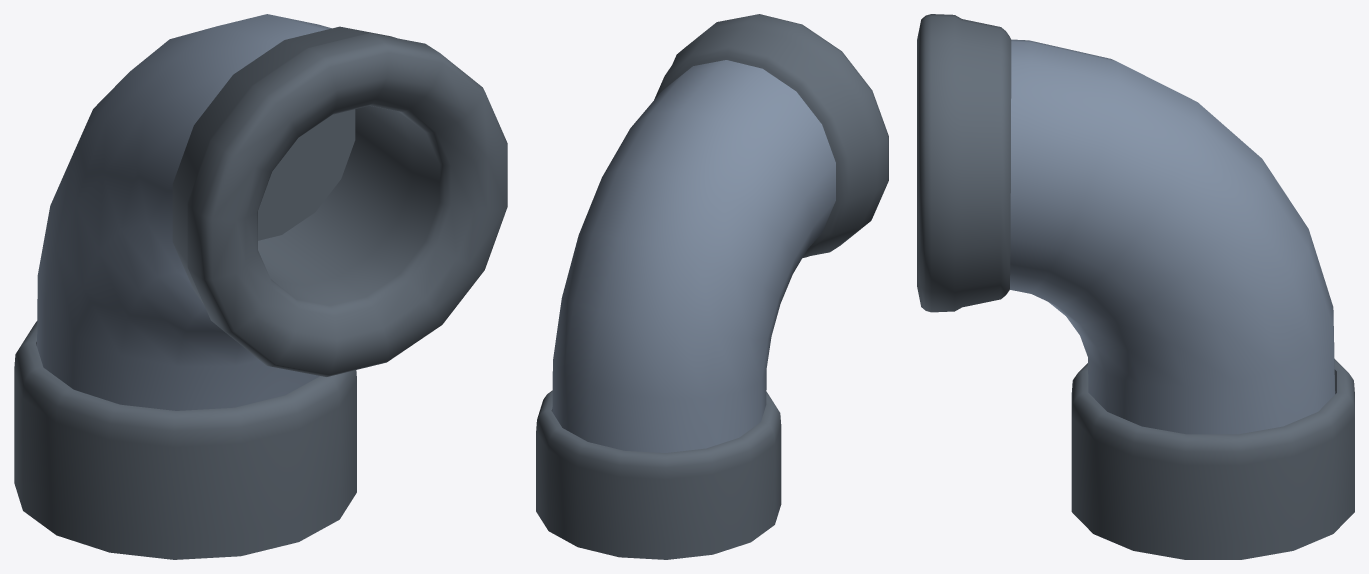
The model's file is Tunnel.fbx.
3 renders of one model, left to right at view 1: azimuth 30°, elevation 25°; view 2: azimuth 150°, elevation 25°; view 3: azimuth 270°, elevation 25°, orthographic. The views are drawn at different scales.
Parts seen in each view (by area): view 1: Tunnel; view 2: Tunnel; view 3: Tunnel.
Boxes of the visible parts, box(x1,y1,x2,y2) form: Tunnel: box(14, 14, 507, 559); Tunnel: box(536, 14, 888, 559); Tunnel: box(917, 14, 1354, 559).
Bounding box in the file's own units: 45.02 × 79.02 × 66.57.
